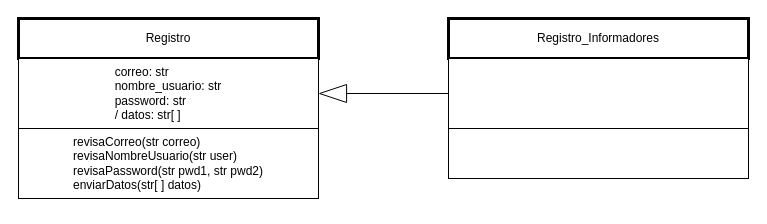
The diagram is 767 pixels wide and 224 high, and some of its shapes have lost their labels. Each missing label, with the box of its shape:
credenciales_admin: str: (448, 58, 748, 128)
revisaCredenciales(str credenciales): (448, 128, 748, 178)
